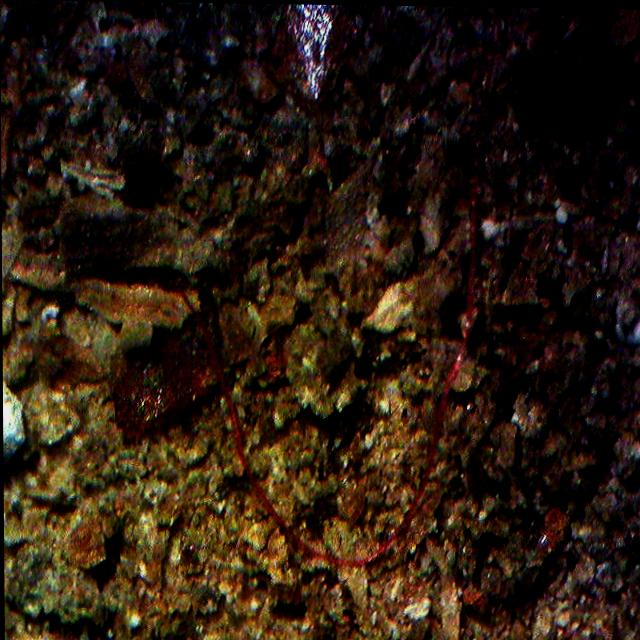microplastic: (131, 0, 544, 582)
